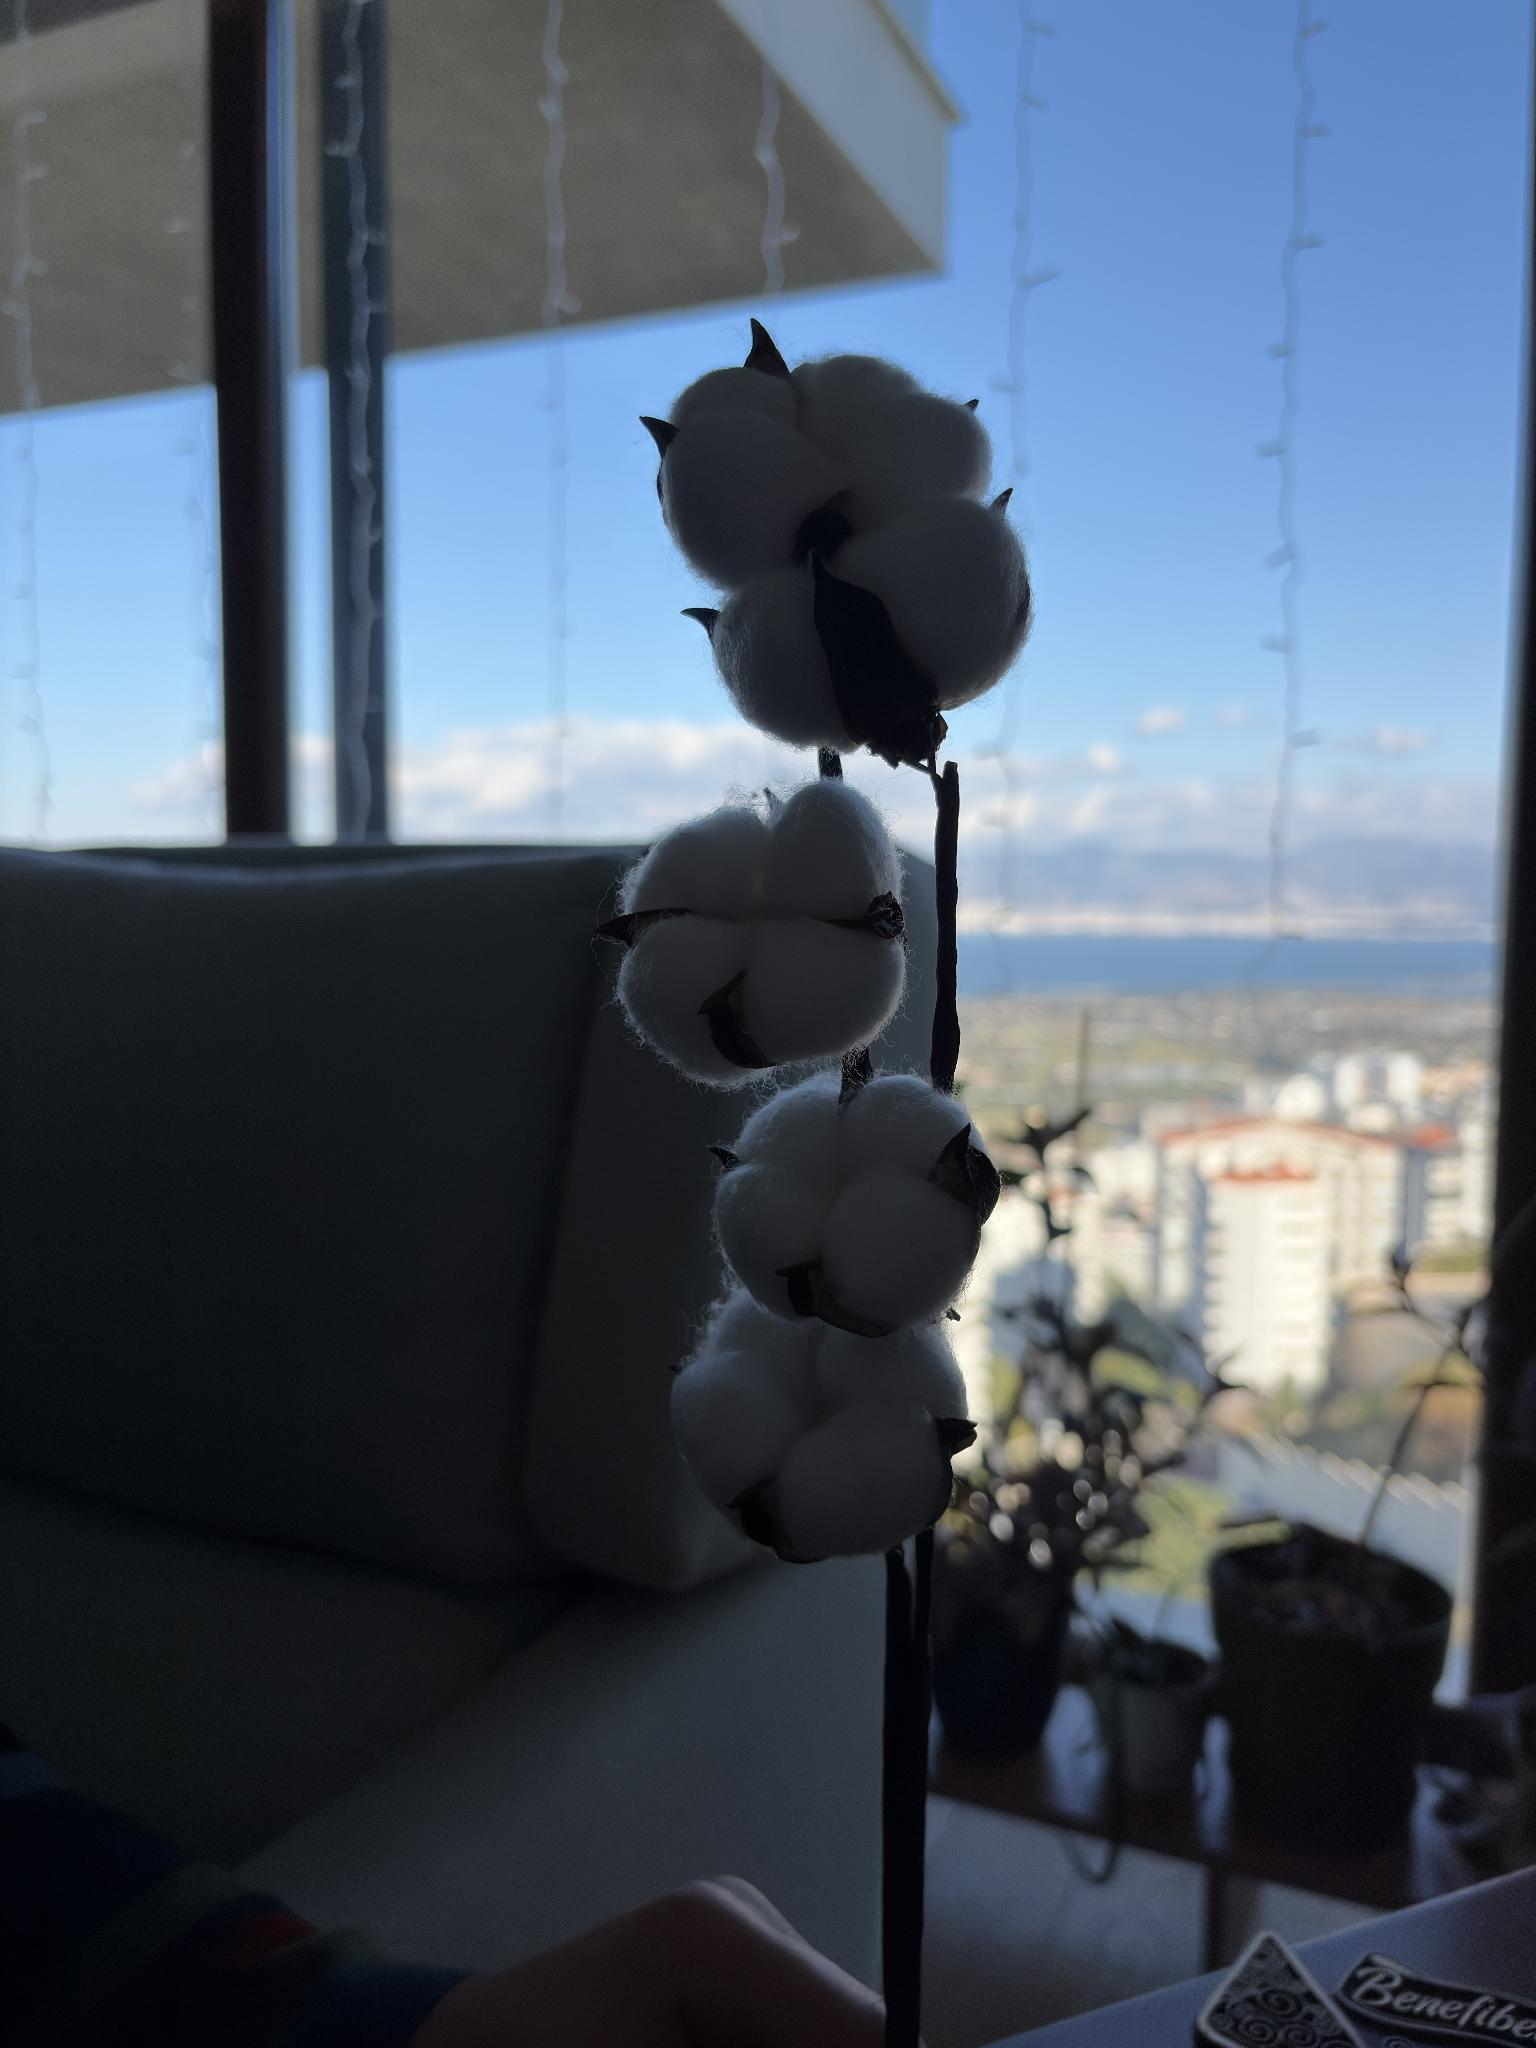cotton_boll: (833, 497, 1029, 706), (658, 408, 850, 590), (773, 1401, 952, 1558), (618, 914, 773, 1084), (707, 569, 850, 747), (821, 1168, 978, 1327), (821, 1168, 978, 1324), (739, 918, 905, 1064), (671, 1348, 805, 1508), (844, 393, 992, 531), (763, 779, 900, 919), (684, 1288, 823, 1414), (623, 805, 768, 918), (718, 1166, 824, 1313), (791, 355, 931, 458), (815, 1324, 966, 1417), (839, 1074, 970, 1180), (737, 1076, 841, 1185), (671, 368, 795, 429)
cotton_boll-cluster: (653, 345, 1046, 761), (662, 1261, 976, 1569), (615, 766, 916, 1084), (716, 1069, 994, 1334)
